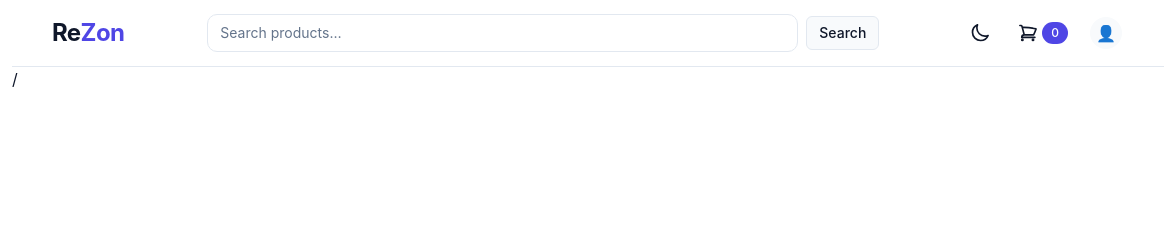
Test case: Header › shows default emoji profile icon for guests, no Menu button, and opens guest dropdown
Later steps or results of the test are not shown.
Click the button named "profile menu": [1106, 33] box top-left (1088, 15), bottom-right (1124, 51)
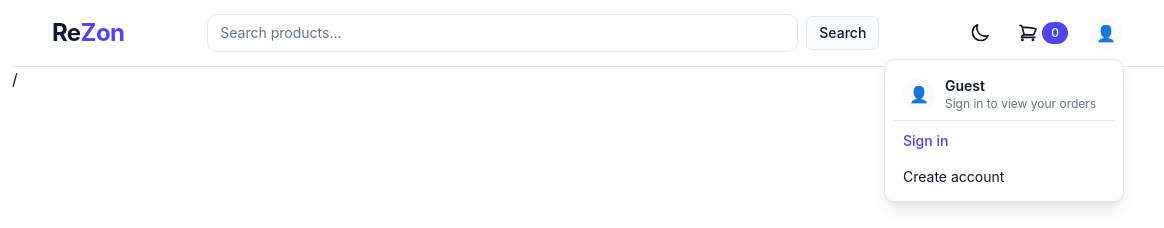
Check: the menu named "profile options" is shown, box top-left (884, 59), bottom-right (1124, 202)
